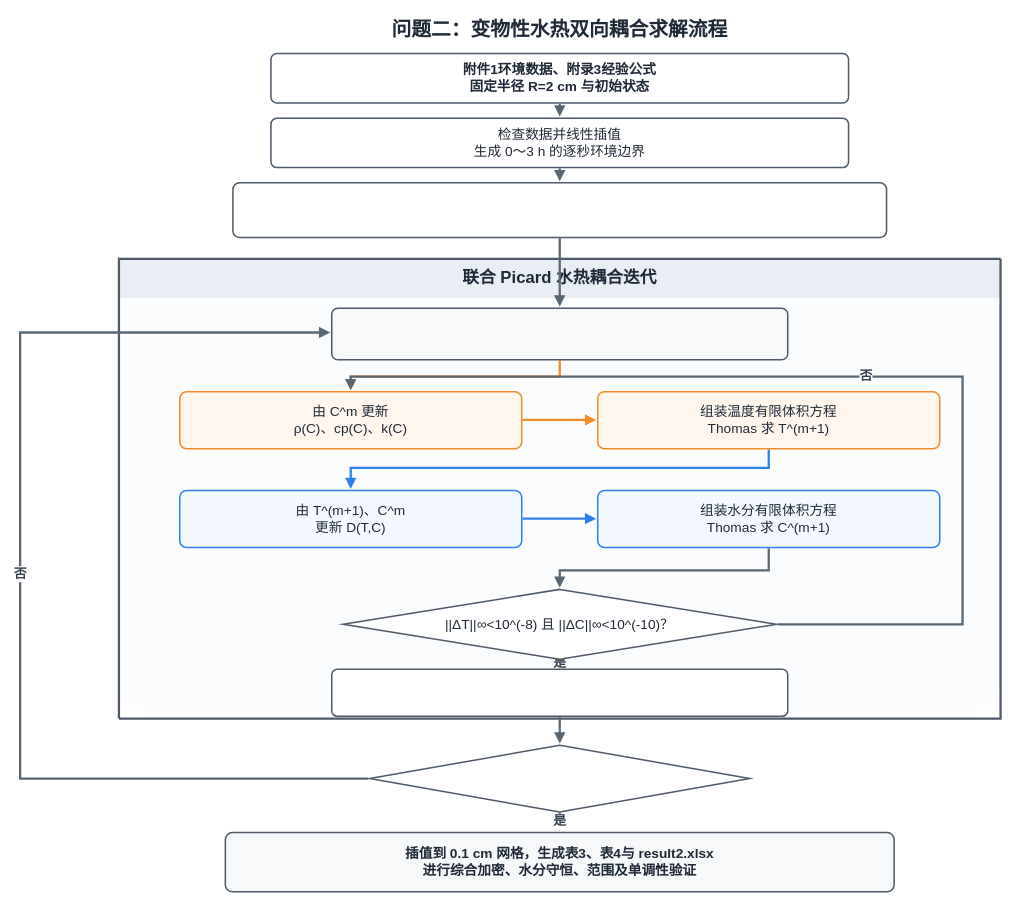
Some shapes in this 1029 by 905 pixel diagram are drawn without their labels. Each missing label, with the box of its shape:
建立160个向表面加密的径向控制体 初始化 T⁰=28 ℃、C⁰=2.55 kg/kg，Δt=0.5 s: (232, 182, 887, 238)
接受 T^(n+1)、C^(n+1) 重构中心值与真实表面值: (331, 668, 788, 717)
每1 s保存一次；t = 10800 s？: (369, 744, 750, 812)
读取当前 T∞(t)、C∞(t) 令 T^0=T^n，C^0=C^n: (331, 307, 788, 360)
